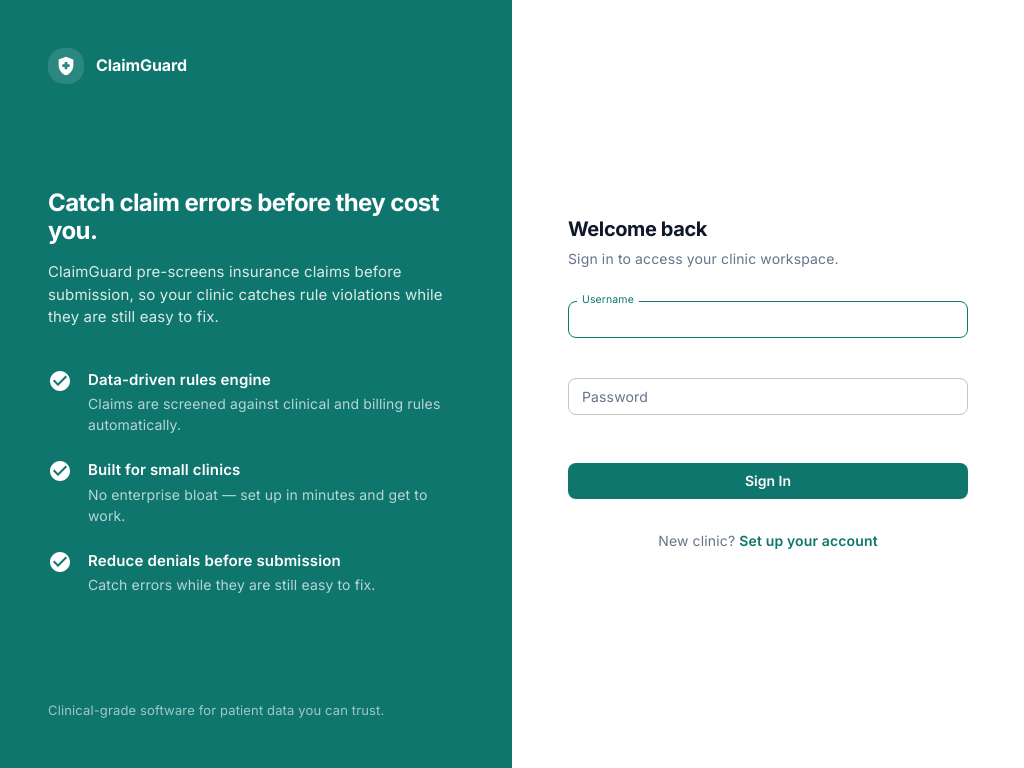
Test: shows inline validation on empty login submit
This screenshot has width=1024, height=768.
Click the button "Sign In" at (768, 481), box [568,463,968,499]
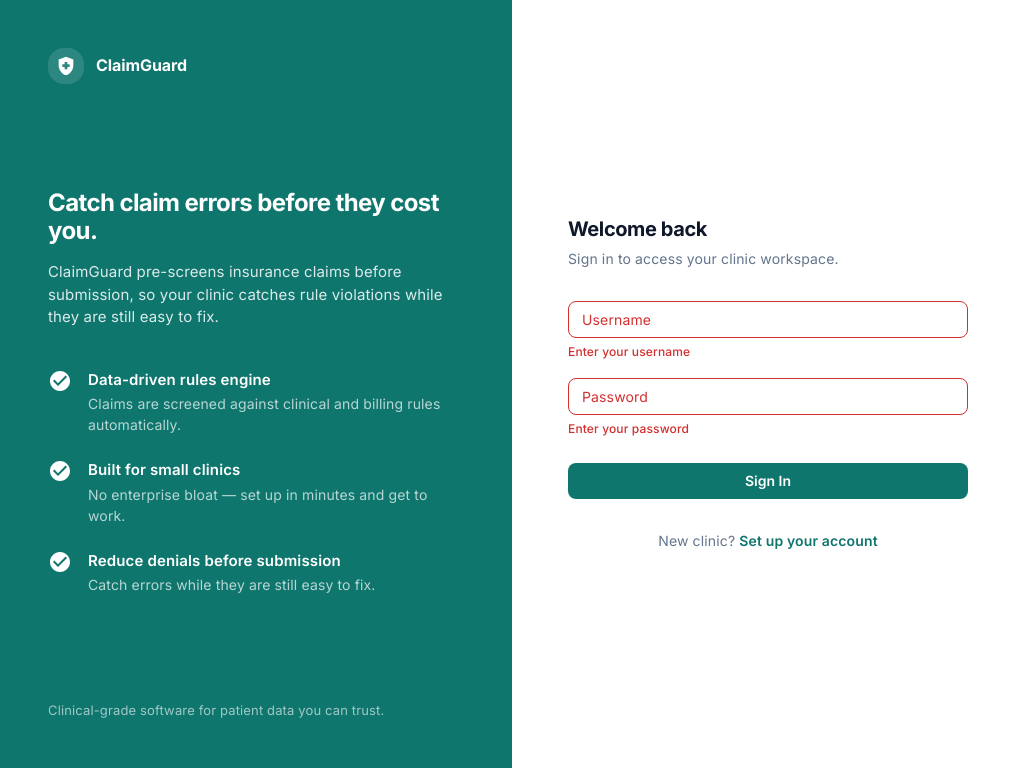
expect the text "Enter your username" is shown: met, box [568,344,690,359]
expect the text "Enter your password" is shown: met, box [568,422,689,436]
